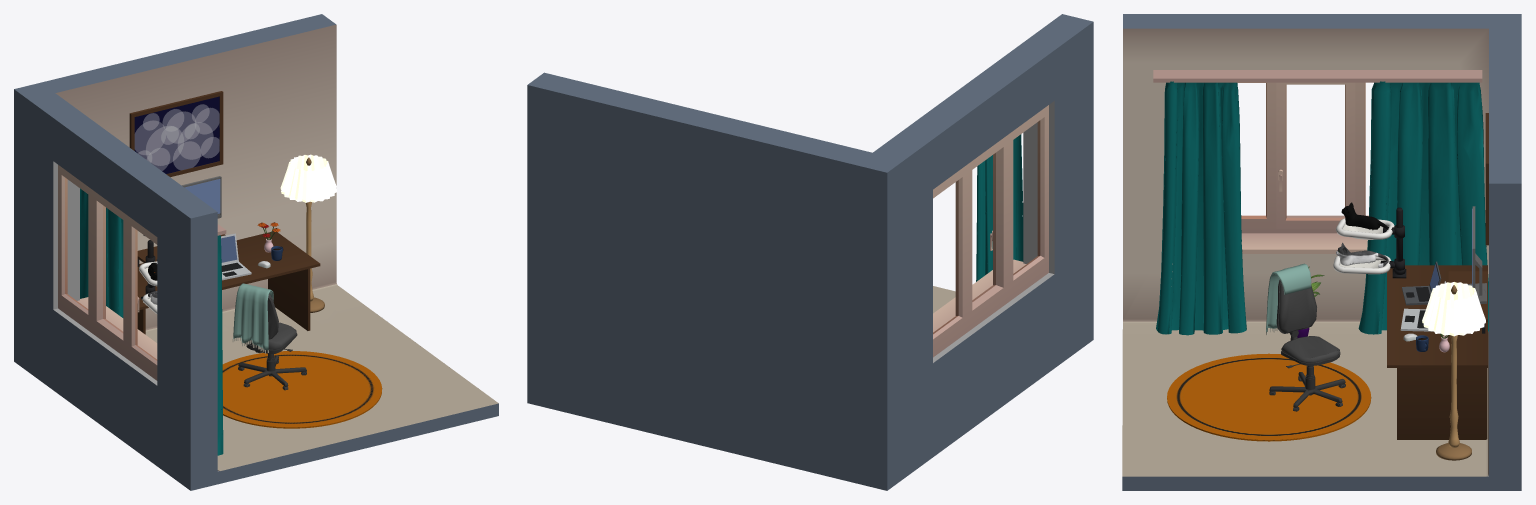
The model's file is room.glb.
The picture shows the model from 3 angles, left to right: view 1: azimuth 30°, elevation 25°; view 2: azimuth 150°, elevation 25°; view 3: azimuth 270°, elevation 25°; orthographic projection. The views are drawn at different scales.
Visible parts, largest first — view 1: body1, floor_rug, window, wall_picture_canvas, table, _________6_blinn1_0, floor_lamp_shade, chair_blanket, chair_body, wall_picture_frame, monitor_screen, pillows; view 2: body1, window, _________6_blinn1_0; view 3: body1, _________6_blinn1_0, floor_rug, table, window, railing, floor_lamp_shade, pillows, chair_body, chair_blanket, floor_lamp_column, hammock_pole (+8 smaller).
Part boxes in pixels (box(x1,y1,x2,y2)): body1: box(14, 14, 498, 490); floor_rug: box(222, 351, 382, 428); window: box(58, 165, 157, 380); wall_picture_canvas: box(134, 96, 219, 173); table: box(137, 231, 320, 334); _________6_blinn1_0: box(80, 188, 223, 455); floor_lamp_shade: box(280, 154, 336, 202); chair_blanket: box(233, 283, 273, 350); chair_body: box(238, 296, 306, 390); wall_picture_frame: box(129, 91, 223, 177); monitor_screen: box(184, 179, 220, 213); pillows: box(247, 294, 296, 349); body1: box(527, 14, 1093, 490); window: box(933, 105, 1048, 357); _________6_blinn1_0: box(976, 134, 1023, 281); body1: box(1122, 14, 1521, 490); _________6_blinn1_0: box(1156, 81, 1488, 335); floor_rug: box(1167, 353, 1371, 441); table: box(1387, 265, 1487, 439); window: box(1237, 82, 1368, 253); railing: box(1153, 70, 1482, 82); floor_lamp_shade: box(1422, 282, 1485, 336); pillows: box(1278, 282, 1339, 362); chair_body: box(1269, 279, 1345, 411); chair_blanket: box(1266, 263, 1311, 331); floor_lamp_column: box(1448, 335, 1459, 447); hammock_pole: box(1380, 207, 1406, 278).
Bounding box in the file's own units: 6.68 × 5.65 × 6.65.
36 materials, 9 textured.
